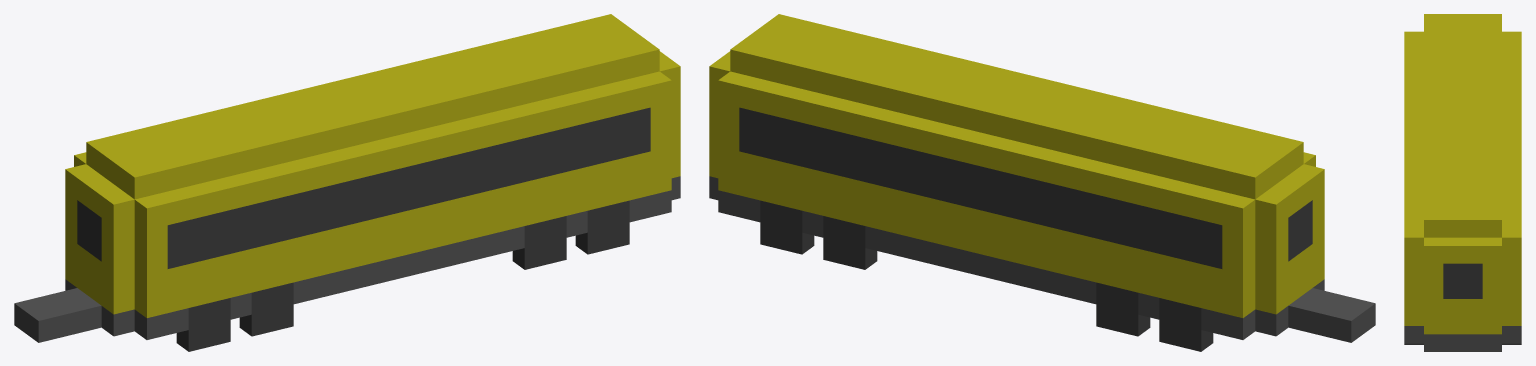
File: train-trailer-v5-yellow.gltf
3 renders of one model, left to right at view 1: azimuth 30°, elevation 25°; view 2: azimuth 150°, elevation 25°; view 3: azimuth 270°, elevation 25°, orthographic. The views are drawn at different scales.
Visible parts, largest first — view 1: model, wheels; view 2: model, wheels; view 3: model.
Part boxes in pixels (x1,y1,x2,y2): model: [14, 14, 680, 342]; wheels: [176, 200, 629, 351]; model: [709, 14, 1375, 342]; wheels: [760, 200, 1213, 351]; model: [1404, 14, 1521, 351].
Bounding box in the file's own units: 3 × 0.8 × 0.6.
Materials: 2 (2 with a texture image).
